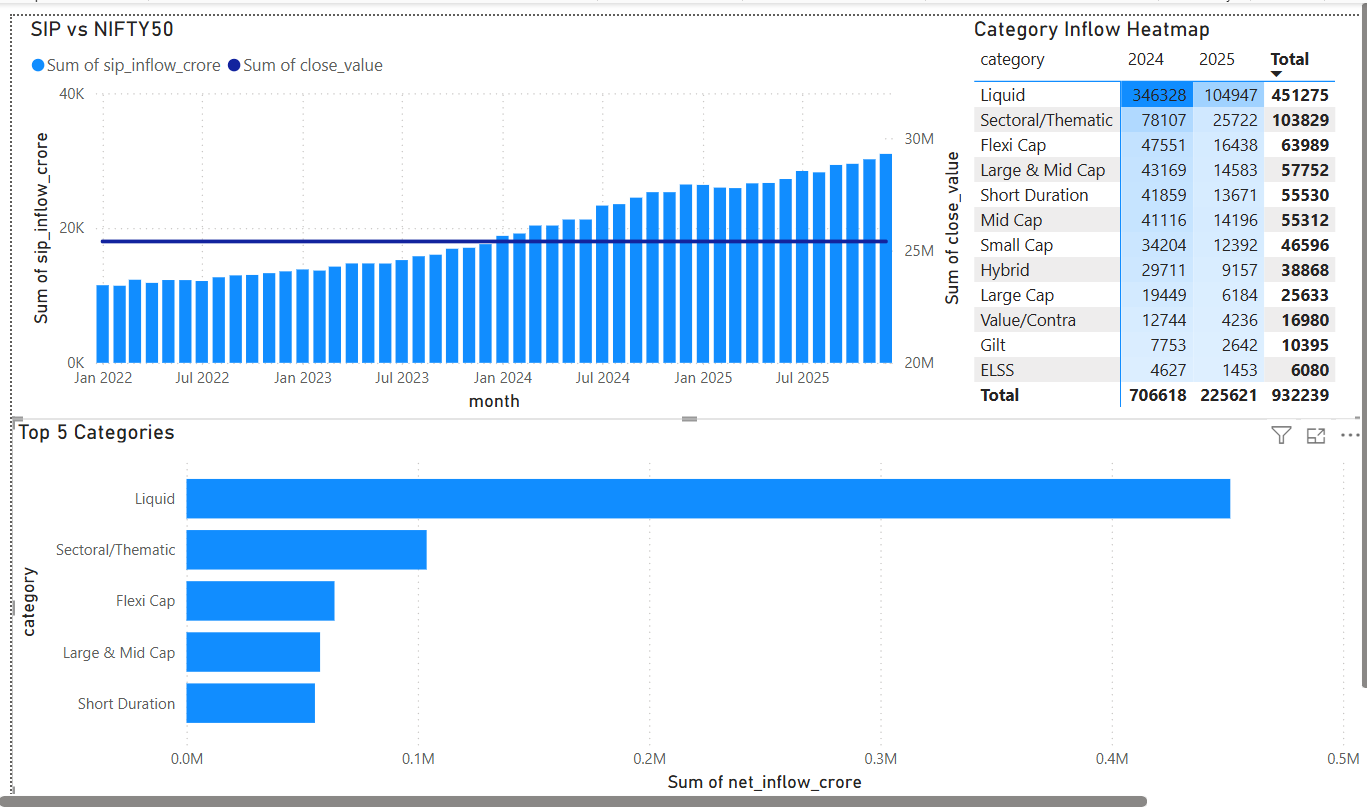

Layout of this report page (visuals, bound fields, positions):
{"tool":"powerbi","page":{"name":"SIP & Market Trends","canvas":[1280,720],"ordinal":3},"visuals":[{"type":"lineClusteredColumnComboChart","title":"SIP vs NIFTY50","fields":{"Category":["sip_clean.month"],"Y":["Sum(sip_clean.sip_inflow_crore)"],"Y2":["Sum(benchmark_clean.close_value)"]},"box":[10,0,755,322],"z":0},{"type":"pivotTable","title":"Category Inflow Heatmap","fields":{"Rows":["category_clean.category"],"Columns":["category_clean.month.Variation.Date Hierarchy.Year","category_clean.month.Variation.Date Hierarchy.Quarter","category_clean.month.Variation.Date Hierarchy.Month","category_clean.month.Variation.Date Hierarchy.Day"],"Values":["Sum(category_clean.net_inflow_crore)"]},"box":[765,0,319,322],"z":1},{"type":"clusteredBarChart","title":"Top 5 Categories","fields":{"Category":["category_clean.category"],"Y":["Sum(category_clean.net_inflow_crore)"]},"box":[0,322,1084,304],"z":2}]}

Visuals, with their boxes on the page's 1280x720 design canvas (x1, y1, x2, y2). These are canvas units, not pixel positions in the 1367x807 screenshot, which may show the page scaled, cropped or inside an application window:
"SIP vs NIFTY50" lineClusteredColumnComboChart: 10, 0, 765, 322
"Category Inflow Heatmap" pivotTable: 765, 0, 1084, 322
"Top 5 Categories" clusteredBarChart: 0, 322, 1084, 626
